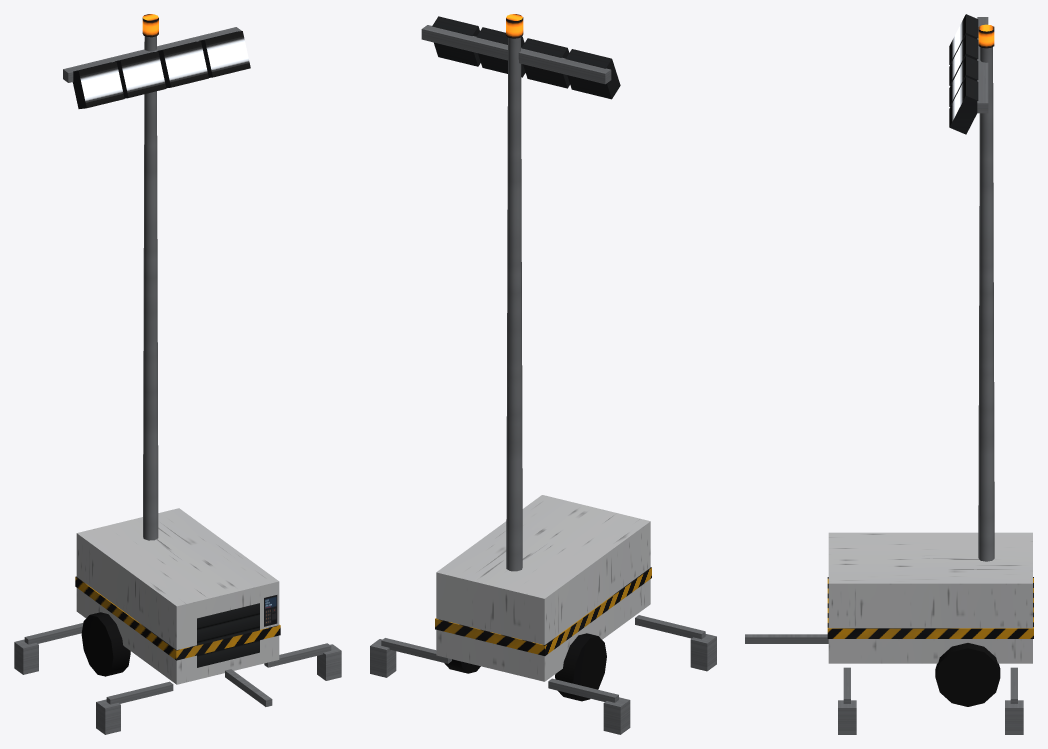
The model's file is SM_INFD_LightTower.fbx.
3 views of the same model, side by side, from view 1: azimuth 30°, elevation 25°; view 2: azimuth 150°, elevation 25°; view 3: azimuth 270°, elevation 25° (orthographic). The views are drawn at different scales.
Visible parts, largest first — view 1: SM_INFD_LightTower_LOD0; view 2: SM_INFD_LightTower_LOD0; view 3: SM_INFD_LightTower_LOD0.
Part boxes in pixels (x1,y1,x2,y2): SM_INFD_LightTower_LOD0: (14,14,341,734); SM_INFD_LightTower_LOD0: (370,14,716,734); SM_INFD_LightTower_LOD0: (745,14,1033,734).
Size of what is drawn, in the model's own units: 3 by 7.7 by 3.11.
